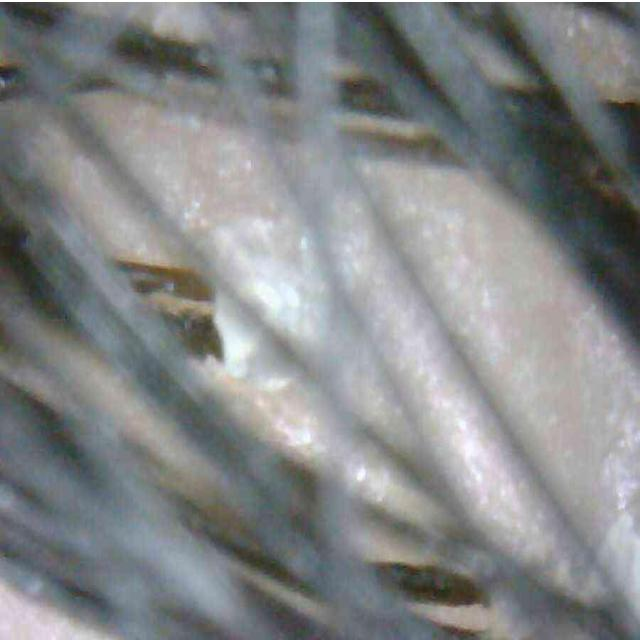d: (215, 293, 255, 377)
